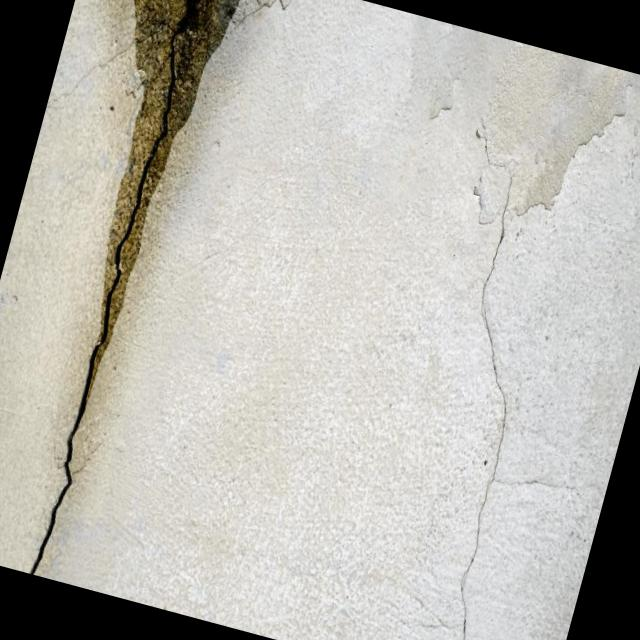crack: (29, 0, 214, 575)
